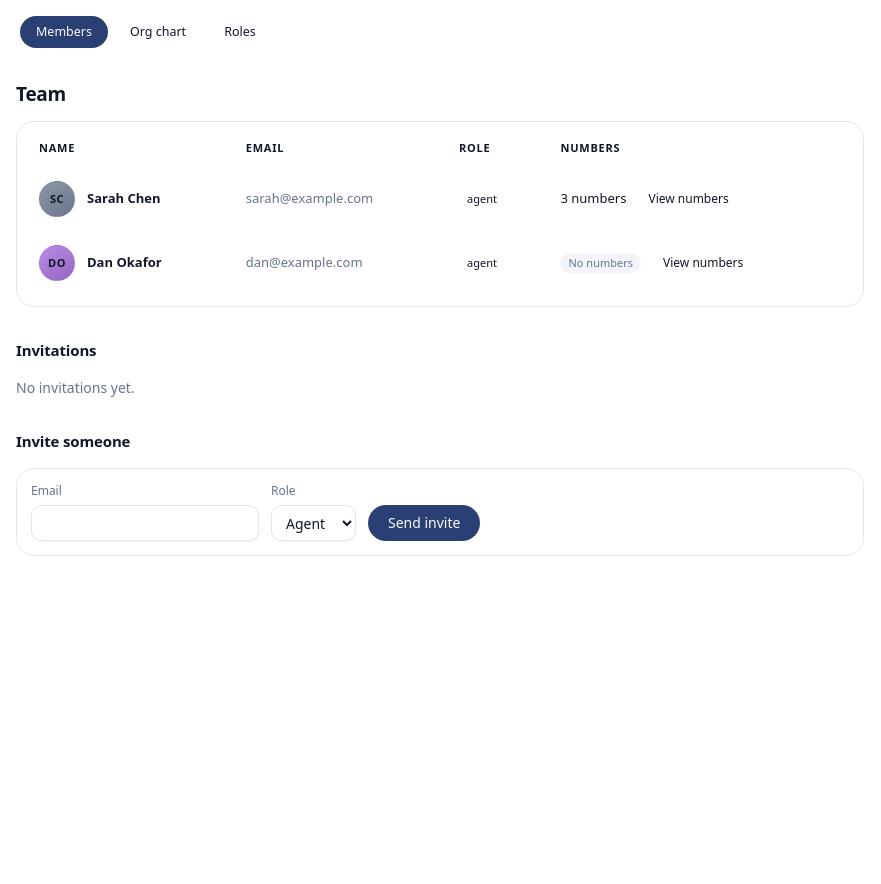
Test: TeamPage number assignments › a user without inboxes:admin sees the state but no edit controls
Check: the text "sarah@example.com" is shown, box [232,170,445,228]
Click the button "View numbers" in the row of "SC": (689, 199) [634,183,743,215]
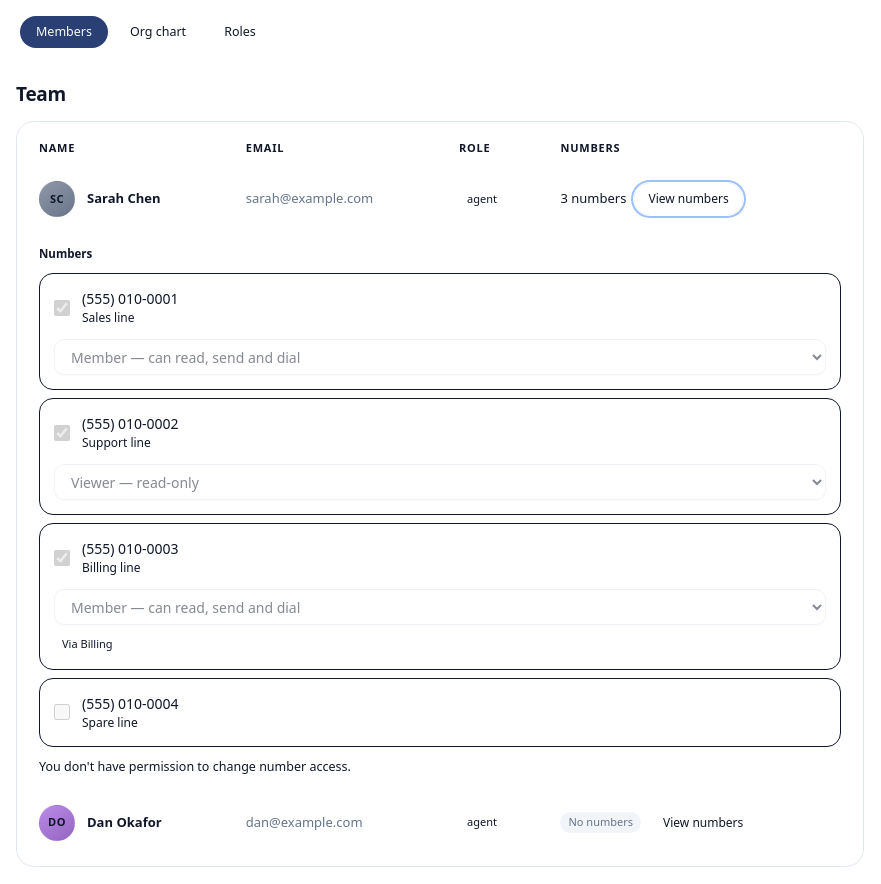
Check: the text "(555) 010-0001" is shown, box [82,289,179,308]
Check: the checkbox named "+15550100001 for Sarah Chen" is checked, box [54,300,70,316]
Check: the checkbox named "+15550100001 for Sarah Chen" is disabled, box [54,300,70,316]
